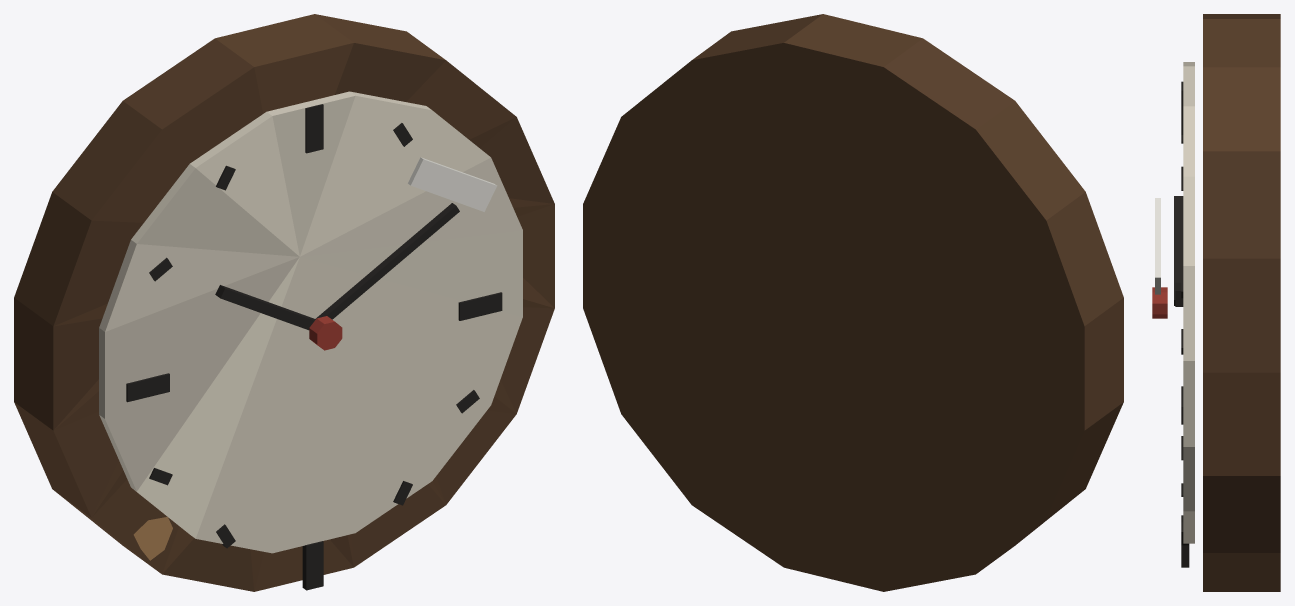
File: clock_wall_mehanicheskie_idle.glb
The picture shows the model from 3 angles, left to right: view 1: azimuth 30°, elevation 25°; view 2: azimuth 150°, elevation 25°; view 3: azimuth 270°, elevation 25°; orthographic projection.
Parts seen in each view (by area): view 1: clock_wall_mehanicheskie_idle; view 2: clock_wall_mehanicheskie_idle; view 3: clock_wall_mehanicheskie_idle.
Boxes of the visible parts, x1,y1,x2,y2 form: clock_wall_mehanicheskie_idle: (14,14,554,591); clock_wall_mehanicheskie_idle: (583,14,1123,591); clock_wall_mehanicheskie_idle: (1152,14,1280,591).
Size of the model in its own units: 0.2942 by 0.2946 by 0.066.
Materials: 1 (1 with a texture image).
